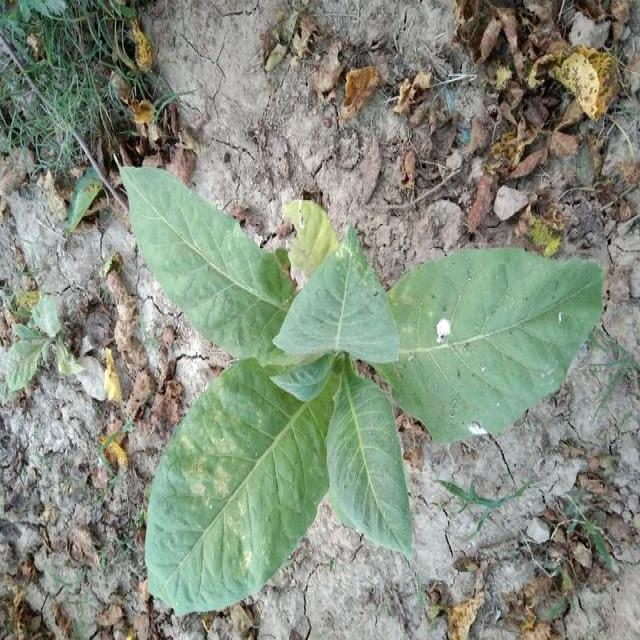crop: (118, 163, 604, 612)
